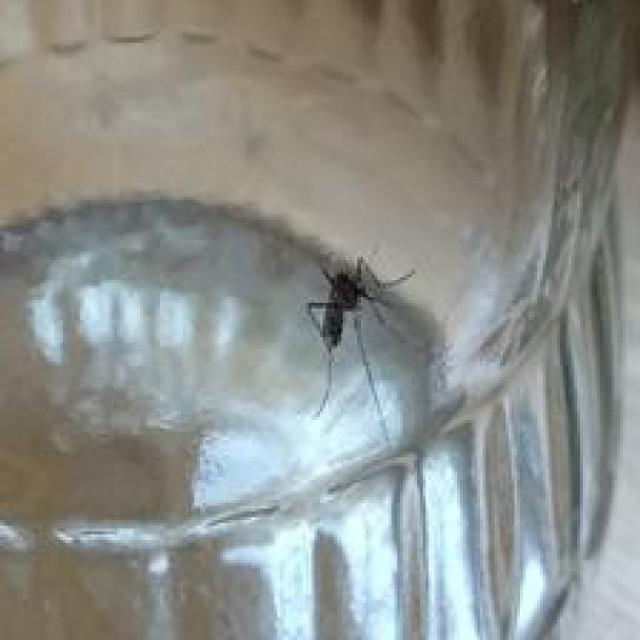Aedes albopictus: (304, 251, 416, 443)
